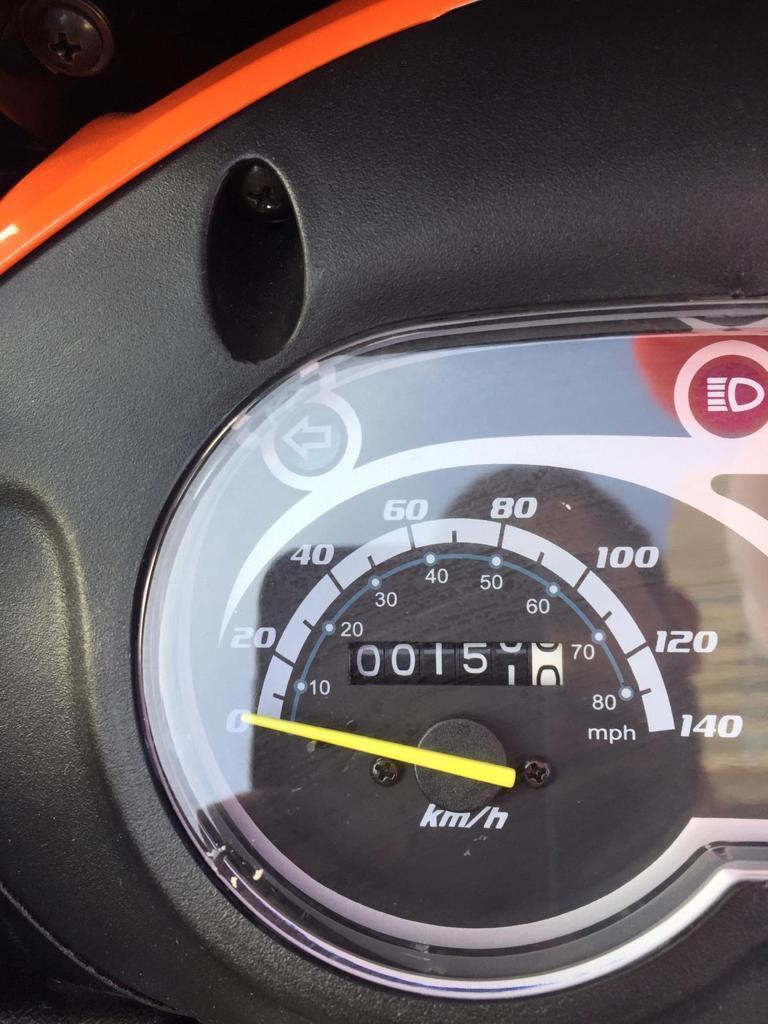0: (388, 642, 418, 678), (355, 643, 382, 678), (532, 660, 563, 688)
1: (428, 639, 448, 678), (502, 659, 518, 688)
5: (460, 639, 490, 676)
odometer: (344, 636, 568, 690)
